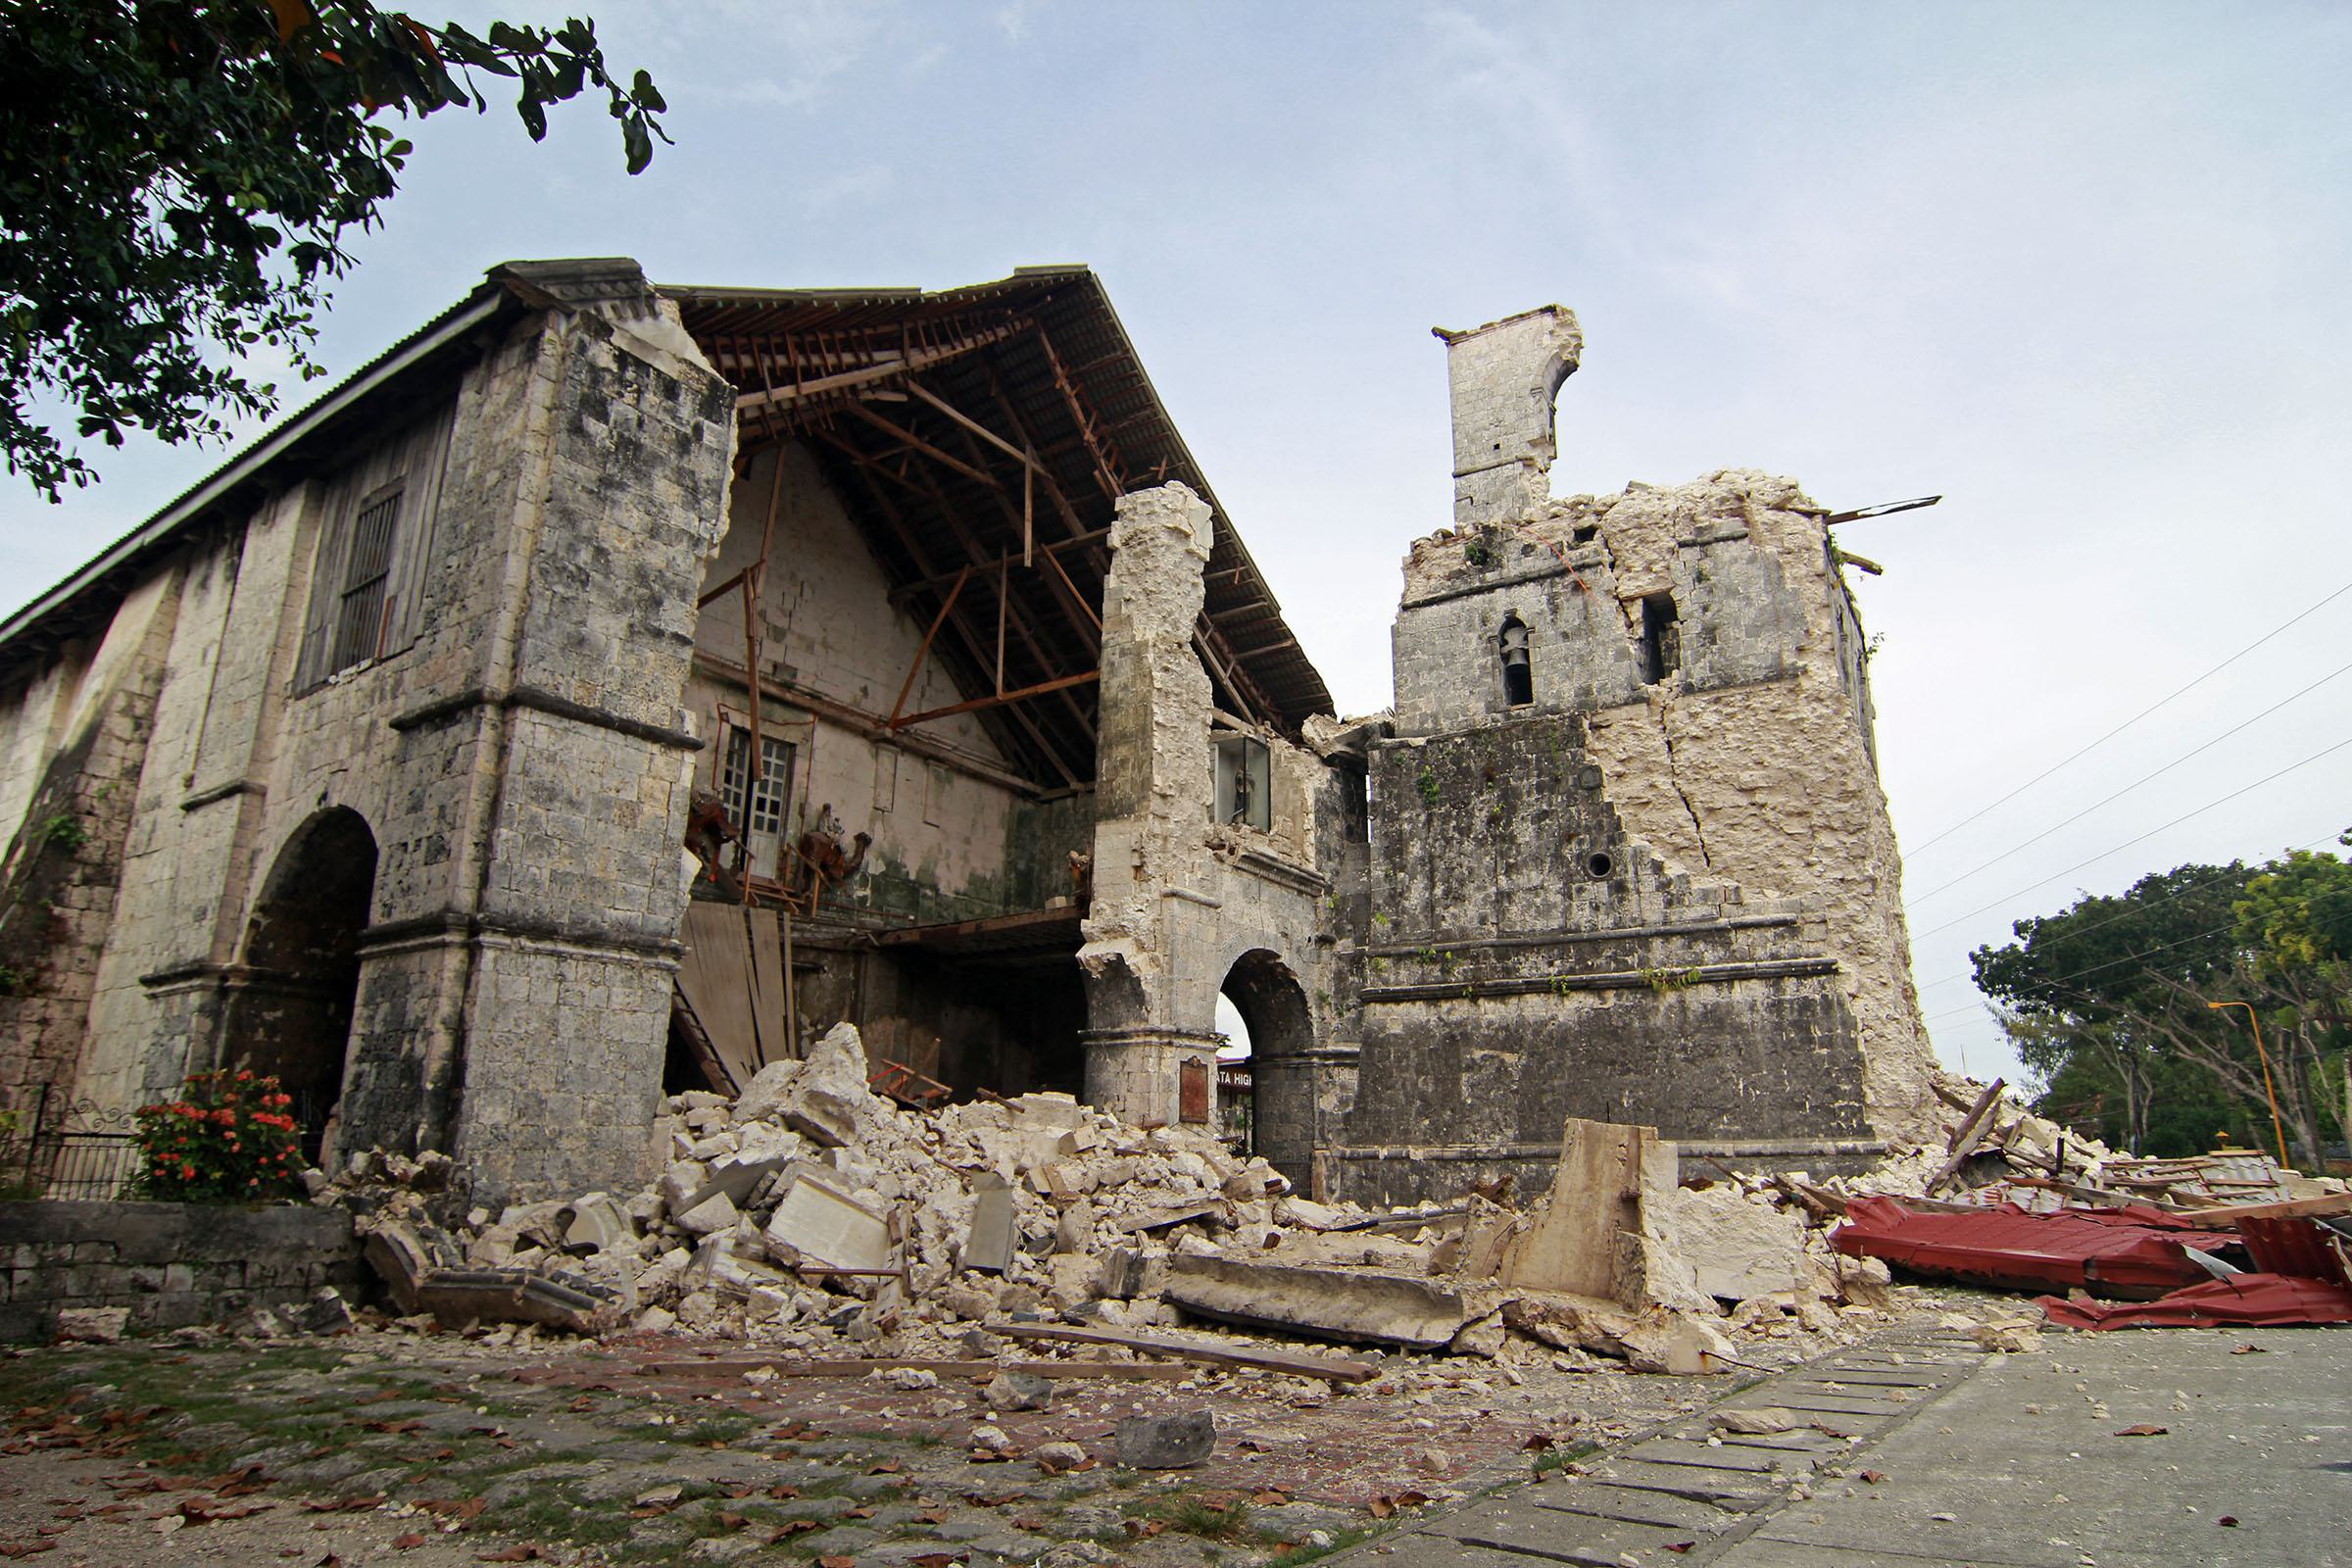sagging_roof: (633, 255, 1368, 786)
